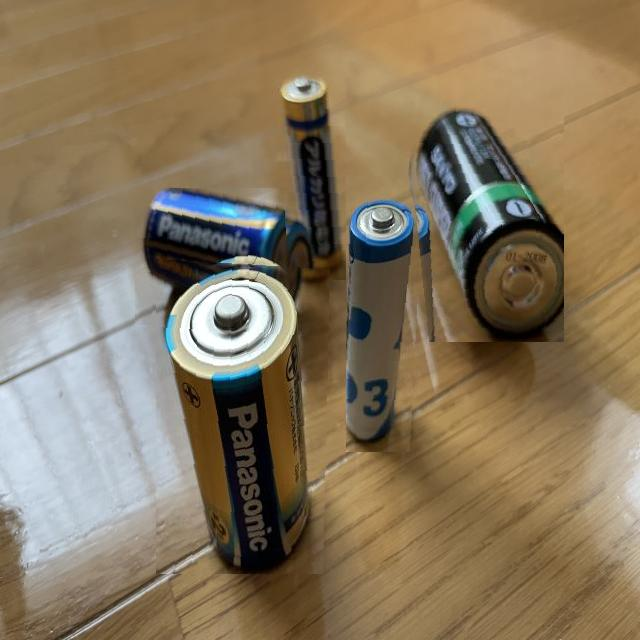battery: (156, 259, 330, 574), (404, 99, 564, 342), (135, 188, 313, 326), (346, 176, 424, 452), (276, 66, 346, 280)
